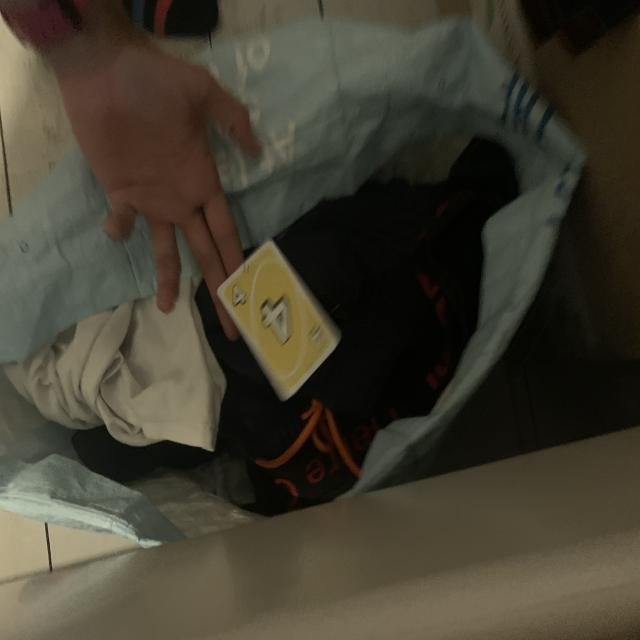lyellow-4: (226, 280, 250, 312)
